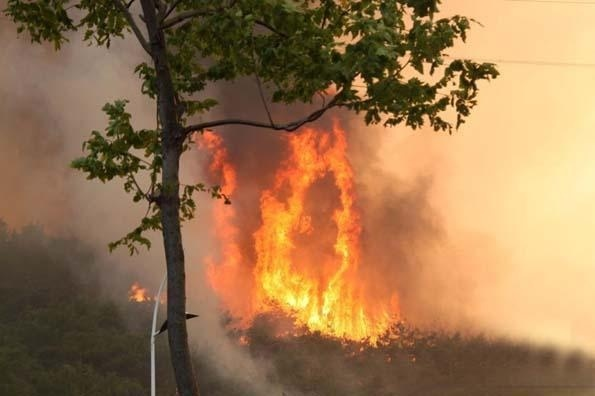fire: (215, 122, 403, 343), (127, 280, 151, 301)
